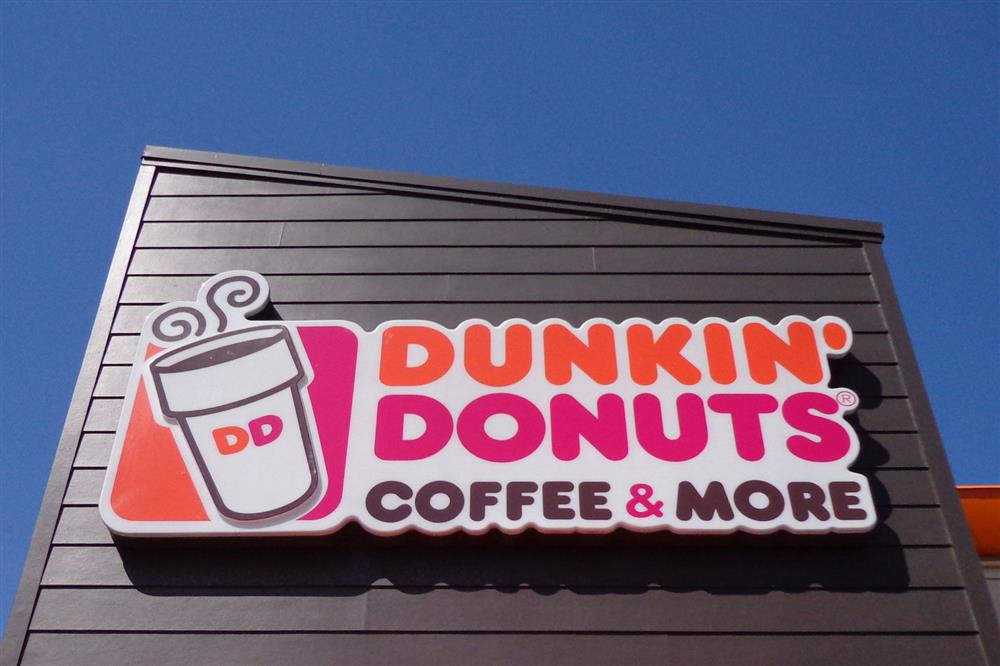Dunkin_Donuts: (142, 273, 872, 536)
